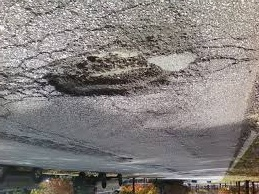pothole: (35, 44, 179, 93), (108, 155, 133, 162)
